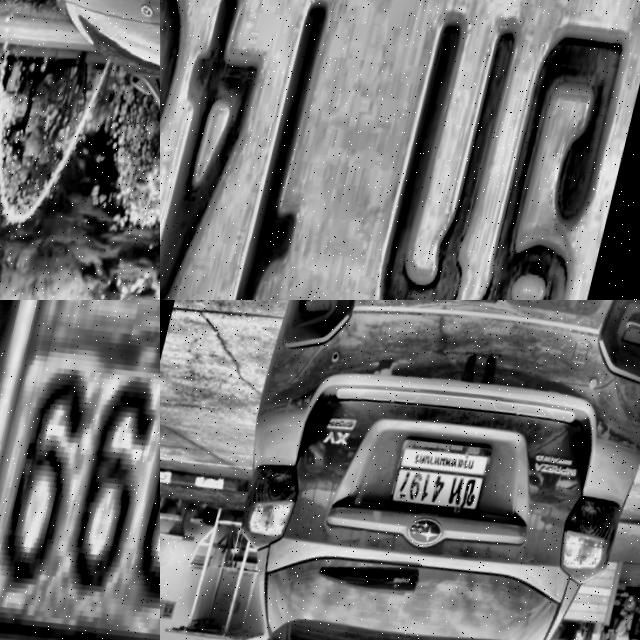license-plate: (160, 0, 640, 300), (0, 300, 160, 640), (389, 434, 495, 530)
